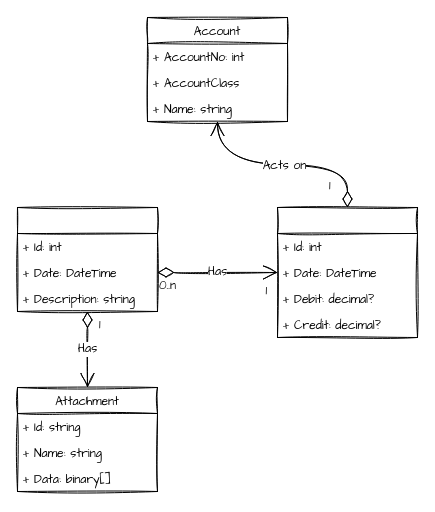
The diagram is 435 pixels wide and 512 high, and some of its shapes have lost their labels. The box of each missing label's shape, as (x1, y1, x2, y2) in pixels:
Entry: (276, 206, 418, 338)
Verification: (16, 206, 158, 312)
